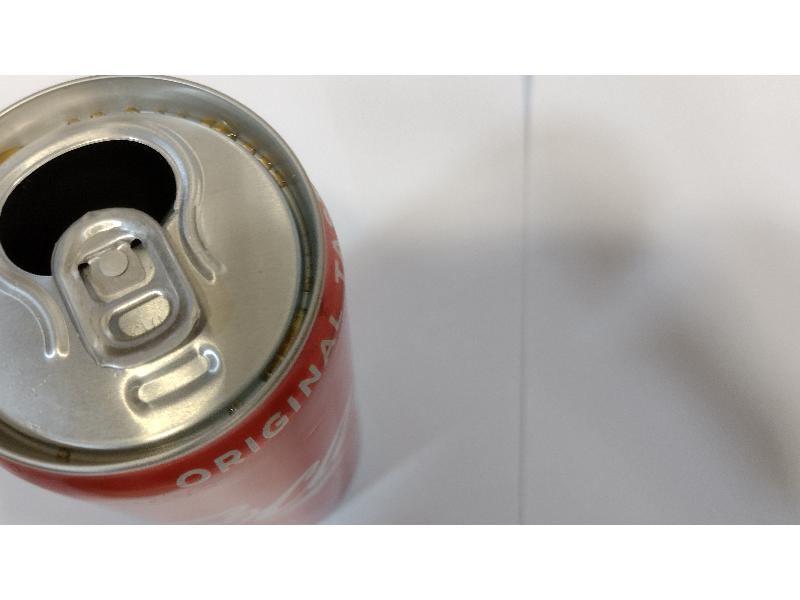can: (2, 74, 372, 524)
